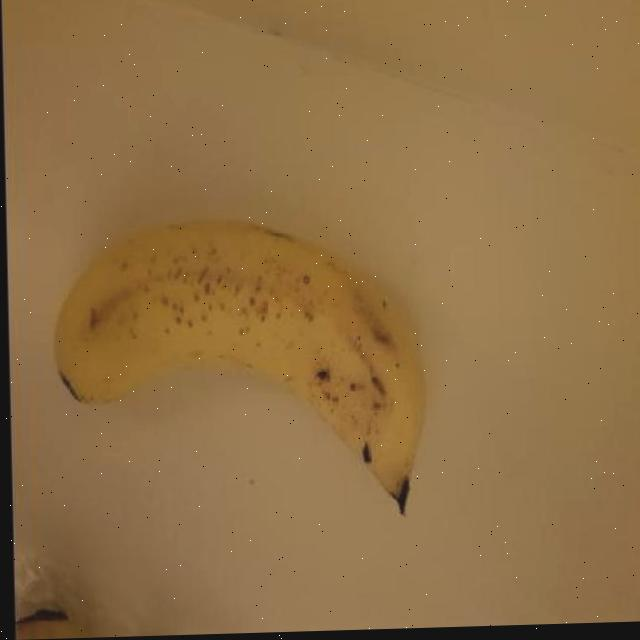banana: (45, 202, 437, 530)
